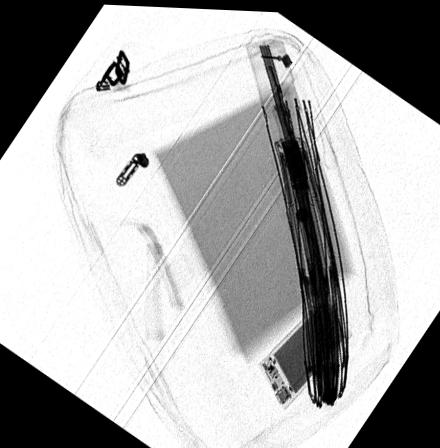Powerbank: (256, 295, 353, 408)
